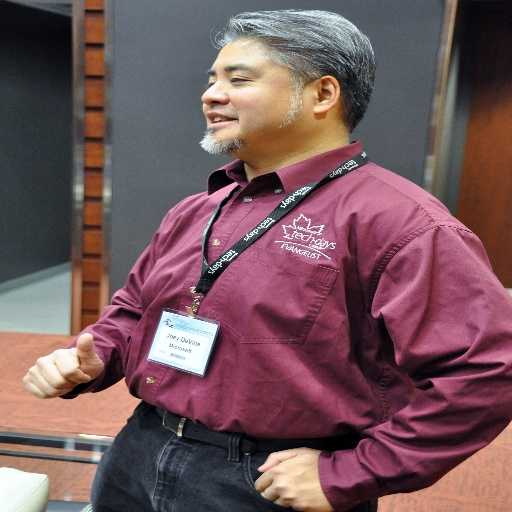hand: (20, 330, 108, 401), (251, 444, 332, 511)
